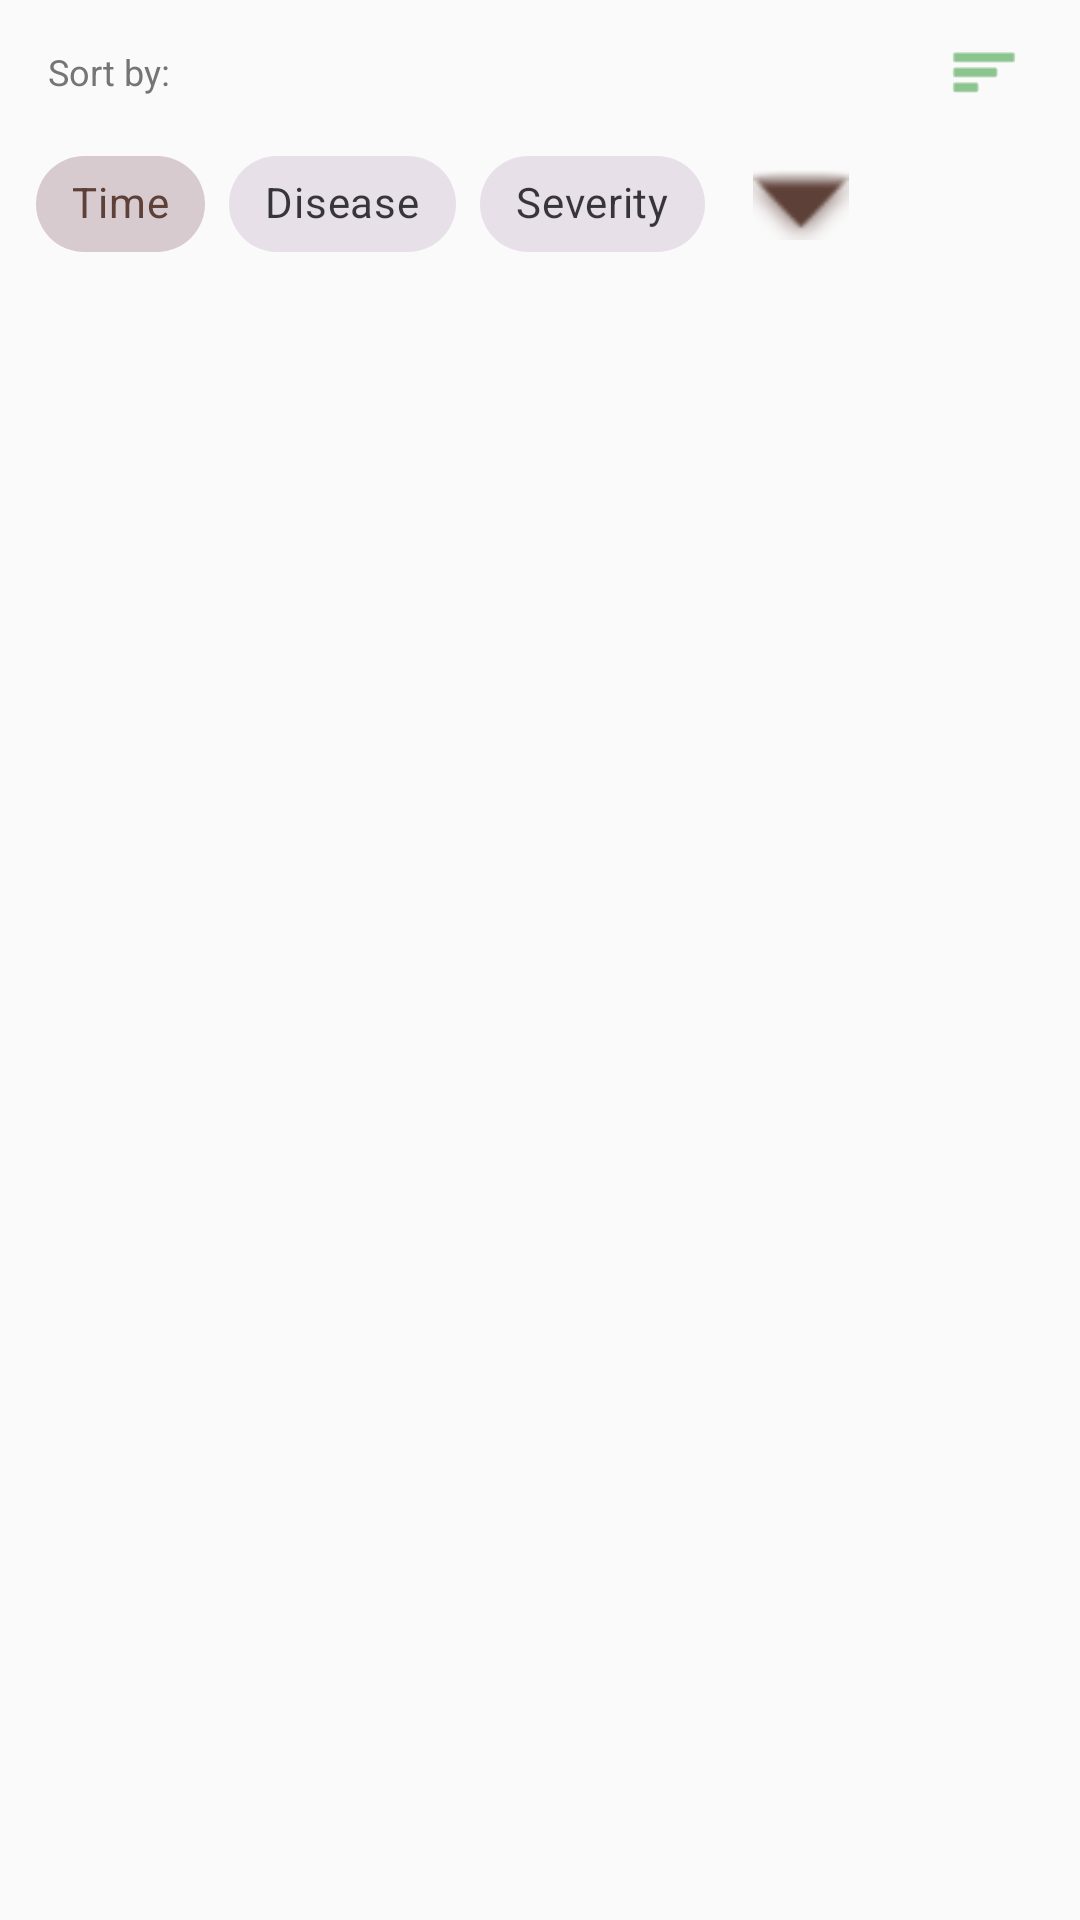

Named icons in this screenshot (1080 × 1920) and their centers, (x=x, y=y):
Sort Order: (x=801, y=204)
